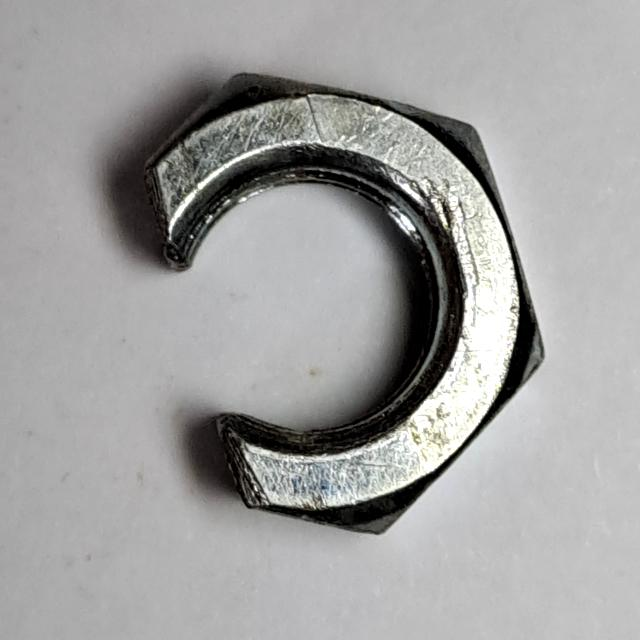Fracture: (128, 60, 559, 552)
